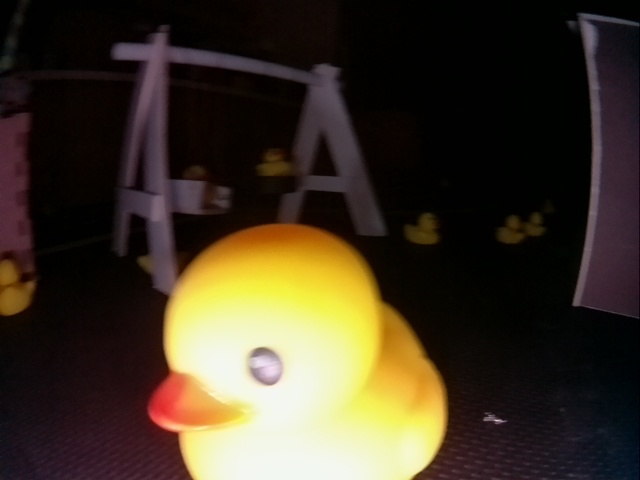Duckie: (149, 225, 444, 477), (0, 260, 36, 313), (404, 213, 440, 245), (258, 149, 294, 176), (496, 217, 523, 244), (525, 213, 546, 235)
